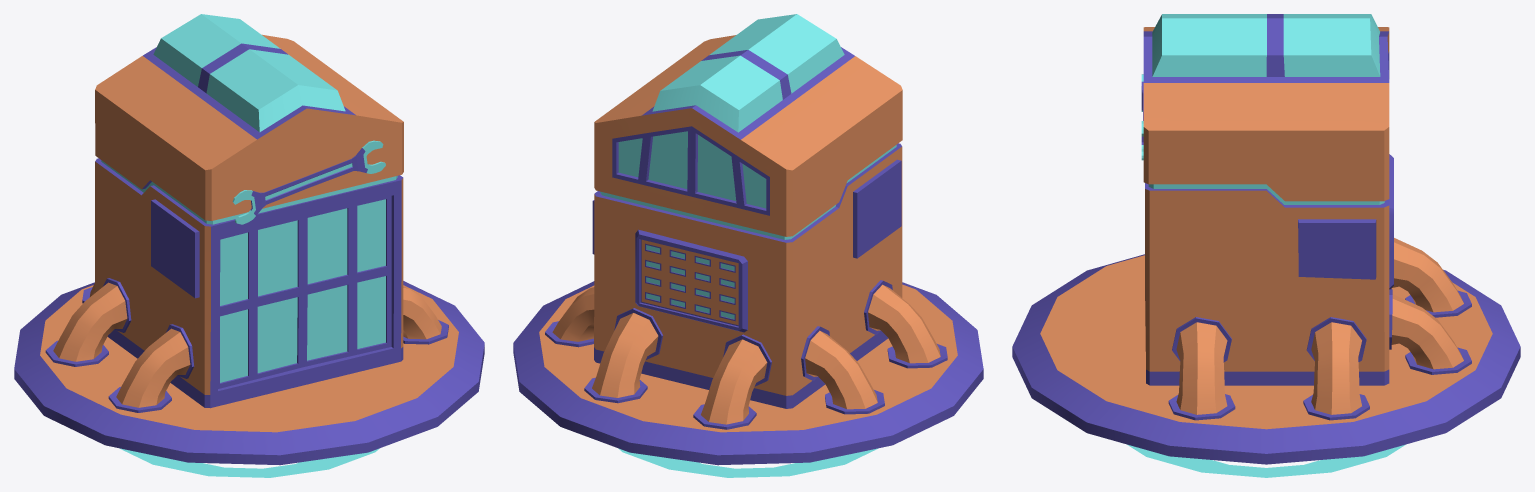
File: LilyShop.fbx
3 views of the same model, side by side, from view 1: azimuth 30°, elevation 25°; view 2: azimuth 150°, elevation 25°; view 3: azimuth 270°, elevation 25° (orthographic). The views are drawn at different scales.
Parts seen in each view (by area): view 1: Shermans; view 2: Shermans; view 3: Shermans.
Boxes of the visible parts, x1=… form: Shermans: x1=14, y1=14, x2=484, y2=477; Shermans: x1=513, y1=14, x2=983, y2=477; Shermans: x1=1012, y1=14, x2=1520, y2=477.
Bounding box in the file's own units: 414 × 370 × 414.
